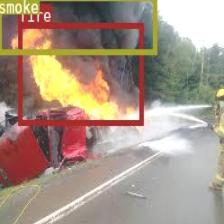fire: (17, 22, 143, 124)
smoke: (0, 0, 156, 54)
